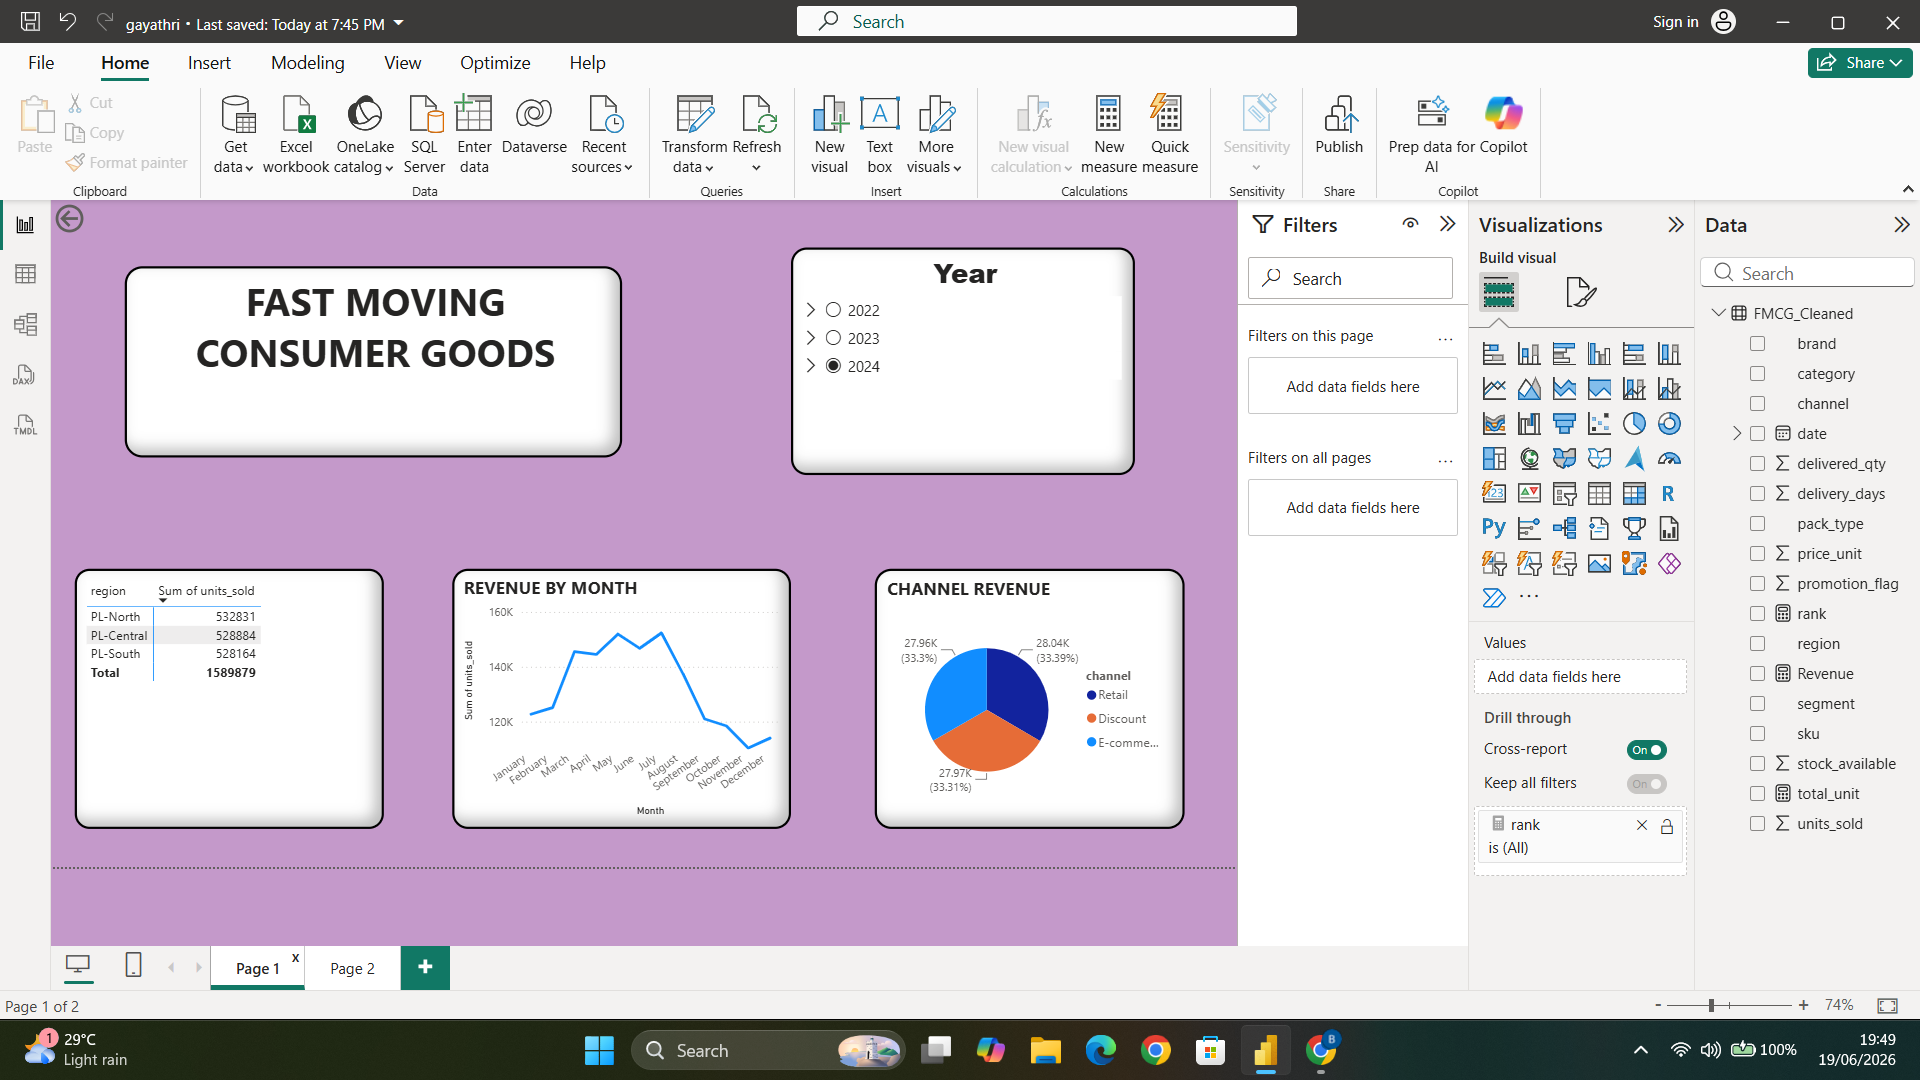

The page's visual inventory and layout, read from the dashboard file:
{"tool":"powerbi","page":{"name":"Page 1","canvas":[1280,720],"ordinal":0},"visuals":[{"type":"pieChart","title":"CHANNEL REVENUE","fields":{"Category":["FMCG_Cleaned.channel"],"Y":["CountNonNull(FMCG_Cleaned.region)"]},"box":[889,398,334.6,280.6],"z":0},{"type":"lineChart","title":"REVENUE BY MONTH","fields":{"Y":["Sum(FMCG_Cleaned.units_sold)"],"Category":["FMCG_Cleaned.date.Variation.Date Hierarchy.Month"]},"box":[433.1,398,365.6,280.6],"z":1000},{"type":"listSlicer","fields":{"Values":["FMCG_Cleaned.date.Variation.Date Hierarchy.Year","FMCG_Cleaned.date.Variation.Date Hierarchy.Quarter","FMCG_Cleaned.date.Variation.Date Hierarchy.Month","FMCG_Cleaned.date.Variation.Date Hierarchy.Day"]},"box":[798.7,51.3,371,245.5],"z":2000},{"type":"pivotTable","fields":{"Rows":["FMCG_Cleaned.region"],"Values":["Sum(FMCG_Cleaned.units_sold)"]},"box":[25.6,398,333.2,280.6],"z":3000},{"type":"actionButton","box":[0,0,100,40],"z":4000},{"type":"textbox","title":"FAST MOVING CONSUMER GOODS","box":[79.6,71.5,536.9,206.4],"z":5001}]}

Visuals, with their boxes on the page's 1280x720 design canvas (x1, y1, x2, y2). These are canvas units, not pixel positions in the 1920x1080 screenshot, which may show the page scaled, cropped or inside an application window:
"CHANNEL REVENUE" pieChart: box(889, 398, 1224, 679)
"REVENUE BY MONTH" lineChart: box(433, 398, 799, 679)
listSlicer - FMCG_Cleaned.date.Variation.Date Hierarchy.Year x FMCG_Cleaned.date.Variation.Date Hierarchy.Quarter: box(799, 51, 1170, 297)
pivotTable - FMCG_Cleaned.region x Sum(FMCG_Cleaned.units_sold): box(26, 398, 359, 679)
actionButton: box(0, 0, 100, 40)
"FAST MOVING CONSUMER GOODS" textbox: box(80, 72, 616, 278)
